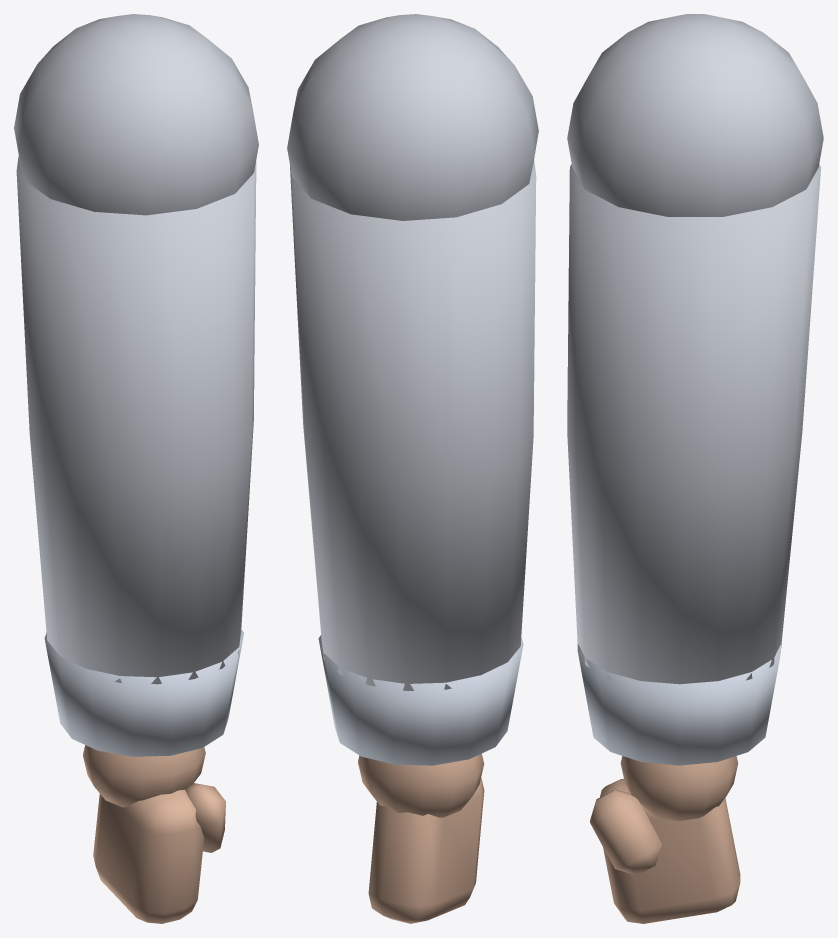
Rendered from coder_forearm_r.glb.
The picture shows the model from 3 angles, left to right: view 1: azimuth 30°, elevation 25°; view 2: azimuth 150°, elevation 25°; view 3: azimuth 270°, elevation 25°; orthographic projection. The views are drawn at different scales.
Visible parts, largest first — view 1: CoderPart; view 2: CoderPart; view 3: CoderPart.
Boxes of the visible parts, box(x1,y1,x2,y2) form: CoderPart: box(14, 14, 258, 923); CoderPart: box(287, 14, 538, 923); CoderPart: box(567, 14, 823, 923).
Bounding box in the file's own units: 0.092 × 0.369 × 0.096.
